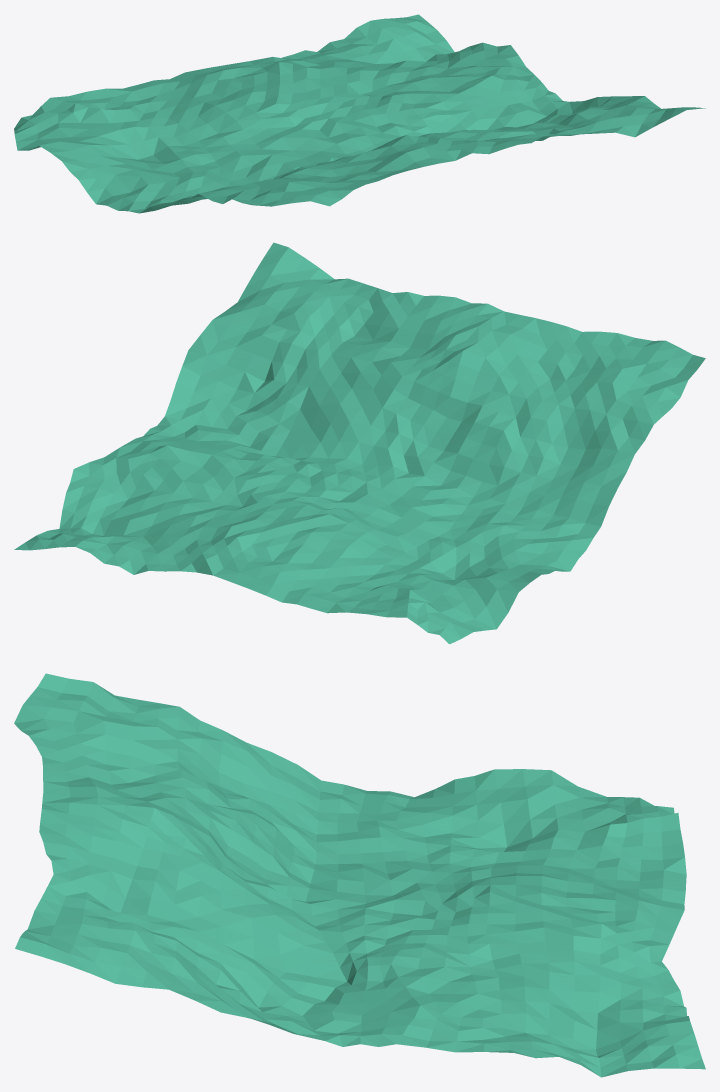
Rendered from ground.dae.
The picture shows the model from 3 angles, top to bottom: view 1: azimuth 30°, elevation 25°; view 2: azimuth 150°, elevation 25°; view 3: azimuth 270°, elevation 25°; orthographic projection. The views are drawn at different scales.
Parts seen in each view (by area): view 1: Plane; view 2: Plane; view 3: Plane.
Boxes of the visible parts, box(x1,y1,x2,y2) form: Plane: box(14, 14, 705, 213); Plane: box(14, 242, 705, 644); Plane: box(14, 673, 705, 1077).
Bounding box in the file's own units: 33.38 × 34.39 × 7.81.
